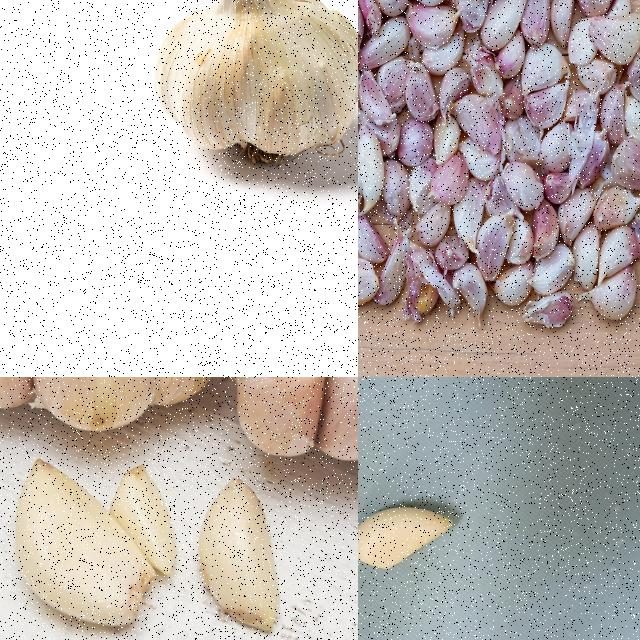garlic: (358, 0, 639, 329), (152, 0, 357, 175), (10, 456, 156, 632), (196, 475, 282, 635), (110, 464, 182, 584), (358, 503, 458, 573)
